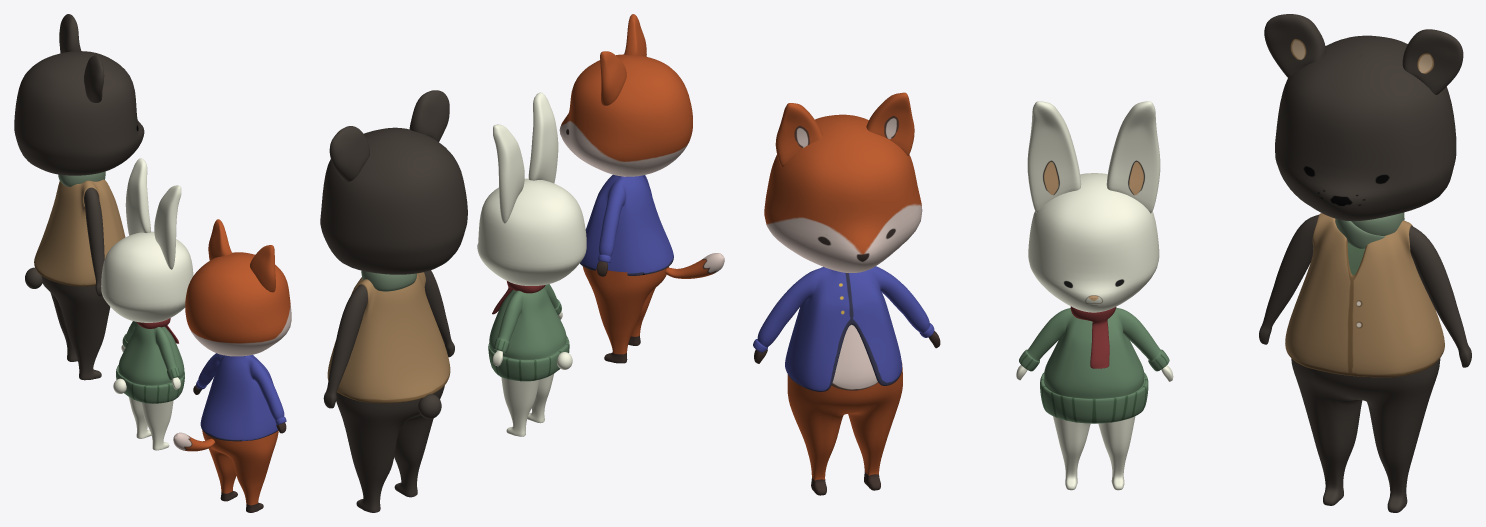
Rendered from animal_squad.glb.
3 views of the same model, side by side, from view 1: azimuth 30°, elevation 25°; view 2: azimuth 150°, elevation 25°; view 3: azimuth 270°, elevation 25° (orthographic). The views are drawn at different scales.
Parts seen in each view (by area): view 1: Bramble_Sketchfab_Bramble_Skin_0, Thistle_Sketchfab_Thistle_Skin_0, Thorn_Sketchfab_Thorn_Skin_0, Thisle_Sketchfab_Clothing_Thistle_Clothing_0, Bramble_Sketchfab_Clothing_Bramble_Clothing_0, Thorn_Sketchfab_clothing_Thorn_Clothing_0, Bramble_Sketchfab_Scarf_Bramble_Skin_0; view 2: Bramble_Sketchfab_Bramble_Skin_0, Thistle_Sketchfab_Thistle_Skin_0, Thorn_Sketchfab_Thorn_Skin_0, Bramble_Sketchfab_Clothing_Bramble_Clothing_0, Thisle_Sketchfab_Clothing_Thistle_Clothing_0, Thorn_Sketchfab_clothing_Thorn_Clothing_0, Bramble_Sketchfab_Scarf_Bramble_Skin_0; view 3: Bramble_Sketchfab_Bramble_Skin_0, Thistle_Sketchfab_Thistle_Skin_0, Thorn_Sketchfab_Thorn_Skin_0, Bramble_Sketchfab_Clothing_Bramble_Clothing_0, Thisle_Sketchfab_Clothing_Thistle_Clothing_0, Thorn_Sketchfab_clothing_Thorn_Clothing_0, Bramble_Sketchfab_Scarf_Bramble_Skin_0, Thorn_Sketchfab_Scarf_Thorn_Skin_0.
Boxes of the visible parts, x1,y1,x2,y2 form: Bramble_Sketchfab_Bramble_Skin_0: [14, 14, 144, 380]; Thistle_Sketchfab_Thistle_Skin_0: [173, 219, 291, 512]; Thorn_Sketchfab_Thorn_Skin_0: [101, 158, 193, 450]; Thisle_Sketchfab_Clothing_Thistle_Clothing_0: [196, 353, 286, 441]; Bramble_Sketchfab_Clothing_Bramble_Clothing_0: [34, 179, 125, 286]; Thorn_Sketchfab_clothing_Thorn_Clothing_0: [116, 321, 184, 403]; Bramble_Sketchfab_Scarf_Bramble_Skin_0: [58, 171, 105, 186]; Bramble_Sketchfab_Bramble_Skin_0: [320, 90, 467, 512]; Thistle_Sketchfab_Thistle_Skin_0: [559, 14, 724, 363]; Thorn_Sketchfab_Thorn_Skin_0: [477, 92, 586, 436]; Bramble_Sketchfab_Clothing_Bramble_Clothing_0: [327, 272, 450, 403]; Thisle_Sketchfab_Clothing_Thistle_Clothing_0: [580, 174, 673, 275]; Thorn_Sketchfab_clothing_Thorn_Clothing_0: [488, 284, 569, 381]; Bramble_Sketchfab_Scarf_Bramble_Skin_0: [361, 270, 416, 291]; Bramble_Sketchfab_Bramble_Skin_0: [1259, 14, 1471, 512]; Thistle_Sketchfab_Thistle_Skin_0: [754, 92, 940, 495]; Thorn_Sketchfab_Thorn_Skin_0: [1016, 101, 1173, 490]; Bramble_Sketchfab_Clothing_Bramble_Clothing_0: [1285, 213, 1444, 377]; Thisle_Sketchfab_Clothing_Thistle_Clothing_0: [753, 266, 934, 391]; Thorn_Sketchfab_clothing_Thorn_Clothing_0: [1019, 307, 1169, 423]; Bramble_Sketchfab_Scarf_Bramble_Skin_0: [1335, 212, 1404, 275]; Thorn_Sketchfab_Scarf_Thorn_Skin_0: [1070, 306, 1116, 368].
Size of the model in its own units: 2.32 by 4.91 by 6.65.
6 materials, 6 textured.
